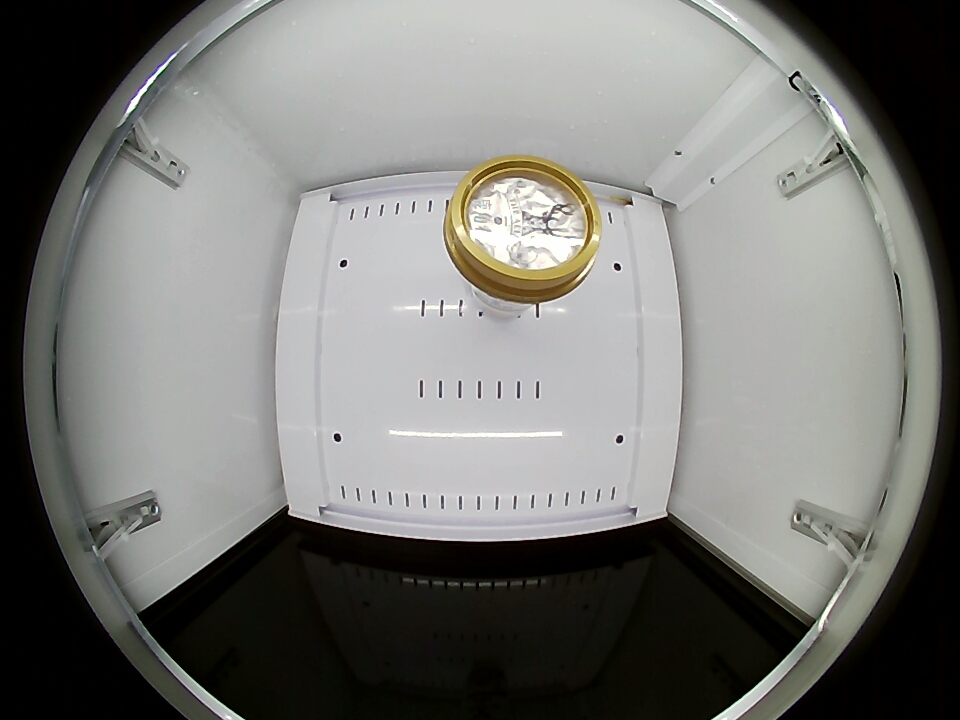lujiaoxiang: (444, 157, 602, 305)
